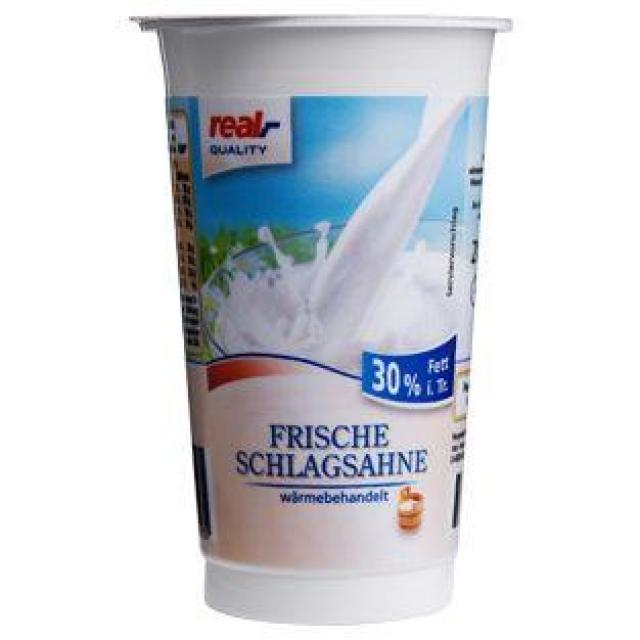cream: (139, 16, 507, 624)
